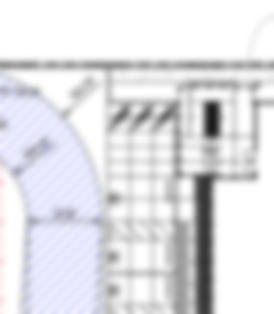double door: (242, 147, 259, 173)
